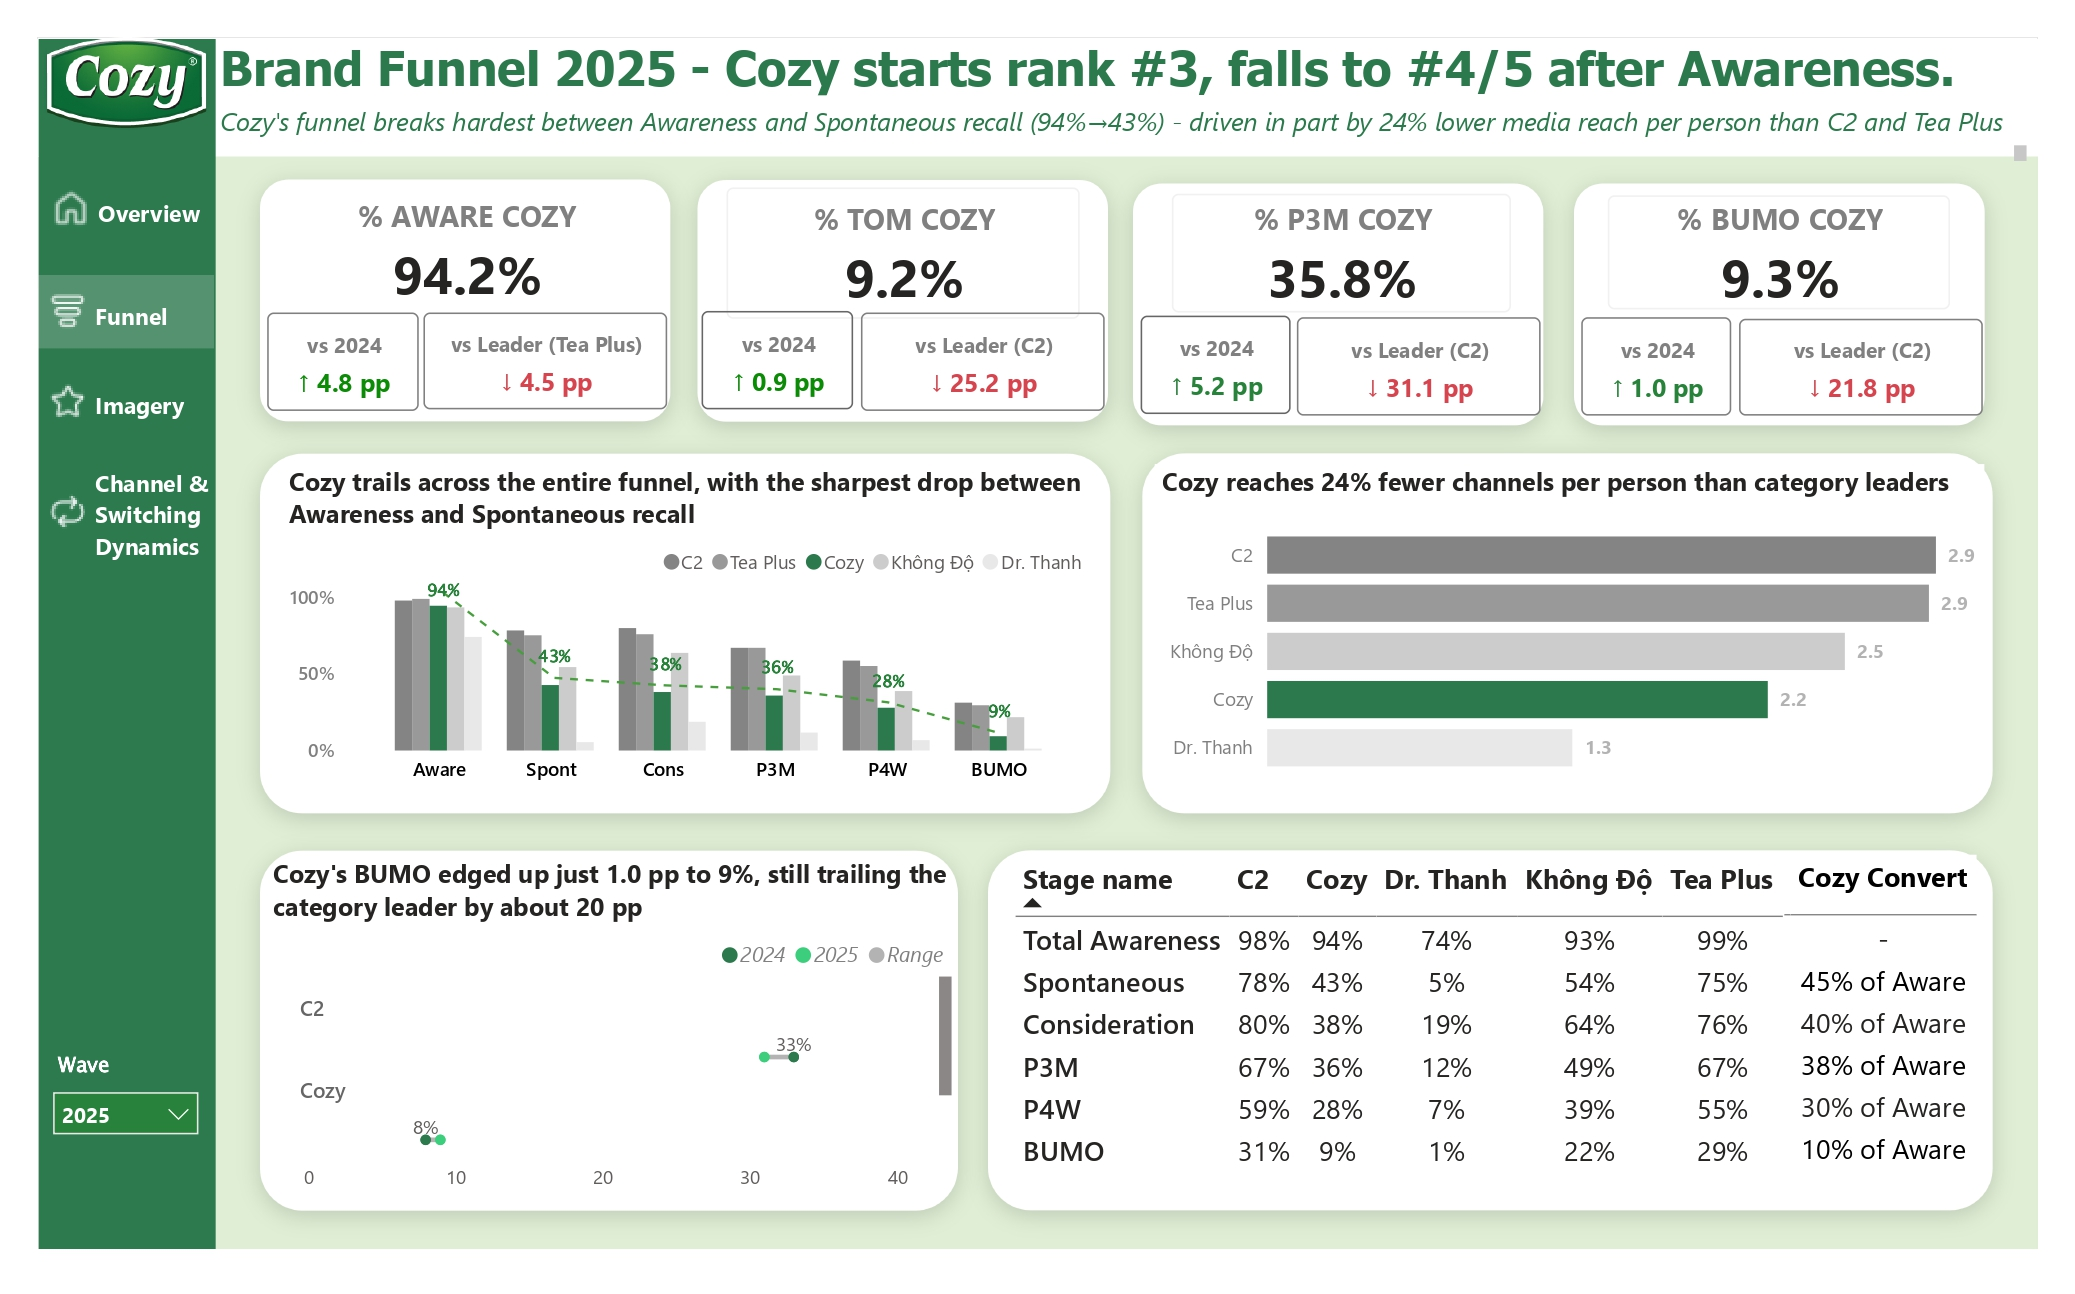

The dashboard page shown, as its layout file describes it:
{"tool":"powerbi","page":{"name":"Funnel","canvas":[1280,780],"ordinal":1},"visuals":[{"type":"textbox","title":"Brand Funnel 2025 - Cozy starts rank #3, falls to #4/5 after Awareness.","box":[111.8,0,1166.7,84.3],"z":0},{"type":"clusteredColumnChart","title":"Cozy trails across the entire funnel, with the sharpest drop between Awareness and Spontaneous recall","fields":{"Category":["Funneln.Funnel"],"Series":["Funneln.Master_Brand"],"Y":["Funneln.Giá trị Funnel2"]},"box":[155.8,273.1,522.2,212.6],"z":0,"group":"g1"},{"type":"cardVisual","fields":{"Data":["Measure.% TOM COZY"]},"box":[429,84,250,108],"z":1000},{"type":"lineChart","fields":{"Category":["Funneln.Funnel"],"Y":["Funneln.Line_Cozy"]},"box":[225.8,334.8,422.7,126.2],"z":1000,"group":"g1"},{"type":"cardVisual","fields":{"Data":["Measure.% Aware Cozy"]},"box":[154,84,242,106],"z":2000},{"type":"cardVisual","fields":{"Data":["Measure.% change aware COzy"]},"box":[146.7,175.6,97,63],"z":3000},{"type":"cardVisual","fields":{"Data":["Measure.% BUMO COZY"]},"box":[993.2,88.7,242.3,97],"z":4000},{"type":"cardVisual","fields":{"Data":["Measure.% P3M COZY"]},"box":[714.2,88.3,240.6,100],"z":5000},{"type":"image","box":[0,0,112.5,60.4],"z":6000},{"type":"cardVisual","fields":{"Data":["Measure.% change TOM COzy"]},"box":[425.4,175,96.2,63.5],"z":7000},{"type":"pivotTable","fields":{"Columns":["Dim Master Brand.Master_Brand"],"Rows":["Stage.Stage name"],"Values":["Stage.Value"]},"box":[621.4,523.9,558.1,238.6],"z":8000},{"type":"slicer","fields":{"Values":["Dim_Respondent.Wave"]},"box":[0,642.4,113.3,73.3],"z":9000},{"type":"pivotTable","fields":{"Rows":["Stage.Stage name"],"Values":["Stage.COZY CONVERT"]},"box":[1112.5,523.2,166.1,239.3],"z":10000},{"type":"group","id":"g1","title":"Group 4","box":[155.8,273.1,522.2,212.6],"z":11000},{"type":"lineChart","title":"Cozy''s BUMO edged up just 1.0 pp to 9%, still trailing the category leader by about 20 pp","fields":{"Category":["XAxis.XAxis"],"Rows":["Dim Master Brand.Master_Brand"],"Y":["Fact Funnel.Dot - bumo24","Fact Funnel.Dot - bumo25","Fact Funnel.Range - BUMO"]},"box":[131,523.8,473.8,221.4],"z":12000},{"type":"cardVisual","fields":{"Data":["Measure.Change vs Leader Aware all time"]},"box":[247.4,175.8,155.6,62.5],"z":13000},{"type":"cardVisual","fields":{"Data":["Measure.Change vs Leader TOM all time"]},"box":[527,176,155.6,62.5],"z":14000},{"type":"cardVisual","fields":{"Data":["Measure.% change P3M COzy"]},"box":[705.9,177.5,96.2,63.5],"z":15000},{"type":"cardVisual","fields":{"Data":["Measure.Change vs Leader P3M all time"]},"box":[806.4,179.1,155.6,62.5],"z":16000},{"type":"cardVisual","fields":{"Data":["Measure.% change BUMO COzy"]},"box":[987.6,178.5,96.2,63.5],"z":17000},{"type":"cardVisual","fields":{"Data":["Measure.Change vs Leader BUMO all time"]},"box":[1089.2,179.6,155.6,62.5],"z":18000},{"type":"clusteredBarChart","title":"Cozy reaches 24% fewer channels per person than category leaders","fields":{"Category":["Dim Master Brand.Master_Brand"],"Y":["Fact Media Channel.Avg Channel Reach"]},"box":[714.6,272.9,531.2,212.5],"z":19000},{"type":"actionButton","title":"Button Home","box":[1.6,84.1,112.7,50.8],"z":20000},{"type":"actionButton","title":"Button Home","box":[0,151.6,112.7,47.6],"z":21000},{"type":"actionButton","title":"Button Home","box":[0,216,112.7,33.3],"z":22000},{"type":"actionButton","title":"Button Home","box":[0,266,116,74],"z":23000}]}

Visuals, with their boxes on the page's 1280x780 design canvas (x1, y1, x2, y2). These are canvas units, not pixel positions in the 2075x1294 screenshot, which may show the page scaled, cropped or inside an application window:
"Brand Funnel 2025 - Cozy starts rank #3, falls to #4/5 after Awareness." textbox: region(112, 0, 1278, 84)
"Cozy trails across the entire funnel, with the sharpest drop between Awareness and Spontaneous recall" clusteredColumnChart: region(156, 273, 678, 486)
cardVisual - Measure.% TOM COZY: region(429, 84, 679, 192)
lineChart - Funneln.Funnel x Funneln.Line_Cozy: region(226, 335, 648, 461)
cardVisual - Measure.% Aware Cozy: region(154, 84, 396, 190)
cardVisual - Measure.% change aware COzy: region(147, 176, 244, 239)
cardVisual - Measure.% BUMO COZY: region(993, 89, 1236, 186)
cardVisual - Measure.% P3M COZY: region(714, 88, 955, 188)
image: region(0, 0, 112, 60)
cardVisual - Measure.% change TOM COzy: region(425, 175, 522, 238)
pivotTable - Dim Master Brand.Master_Brand x Stage.Stage name: region(621, 524, 1180, 762)
slicer - Dim_Respondent.Wave: region(0, 642, 113, 716)
pivotTable - Stage.Stage name x Stage.COZY CONVERT: region(1112, 523, 1279, 762)
"Group 4" group: region(156, 273, 678, 486)
"Cozy''s BUMO edged up just 1.0 pp to 9%, still trailing the category leader by about 20 pp" lineChart: region(131, 524, 605, 745)
cardVisual - Measure.Change vs Leader Aware all time: region(247, 176, 403, 238)
cardVisual - Measure.Change vs Leader TOM all time: region(527, 176, 683, 238)
cardVisual - Measure.% change P3M COzy: region(706, 178, 802, 241)
cardVisual - Measure.Change vs Leader P3M all time: region(806, 179, 962, 242)
cardVisual - Measure.% change BUMO COzy: region(988, 178, 1084, 242)
cardVisual - Measure.Change vs Leader BUMO all time: region(1089, 180, 1245, 242)
"Cozy reaches 24% fewer channels per person than category leaders" clusteredBarChart: region(715, 273, 1246, 485)
"Button Home" actionButton: region(2, 84, 114, 135)
"Button Home" actionButton: region(0, 152, 113, 199)
"Button Home" actionButton: region(0, 216, 113, 249)
"Button Home" actionButton: region(0, 266, 116, 340)
